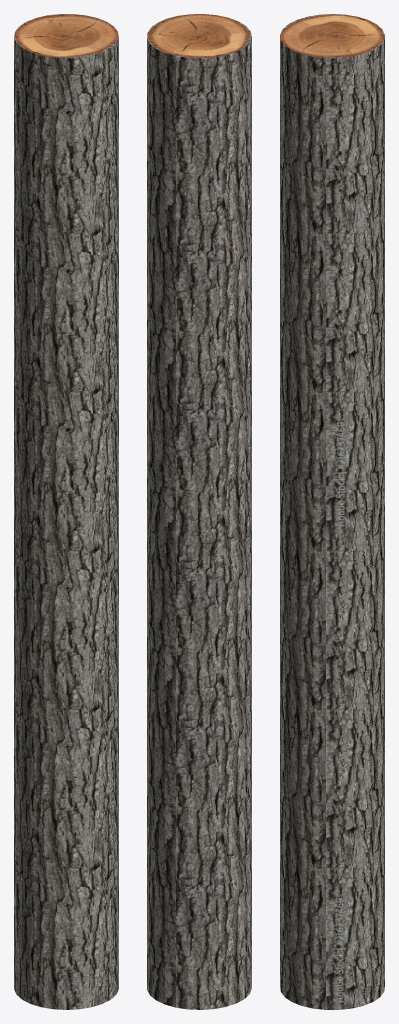
Rendered from wood.obj.
3 renders of one model, left to right at view 1: azimuth 90°, elevation 25°; view 2: azimuth 150°, elevation 25°; view 3: azimuth 270°, elevation 25°, orthographic.
Parts seen in each view (by area): view 1: wood; view 2: wood; view 3: wood.
Part boxes in pixels (x1=…): wood: x1=14, y1=14, x2=118, y2=1009; wood: x1=147, y1=14, x2=251, y2=1009; wood: x1=280, y1=14, x2=384, y2=1009.
Bounding box in the file's own units: 398 × 4000 × 399.
